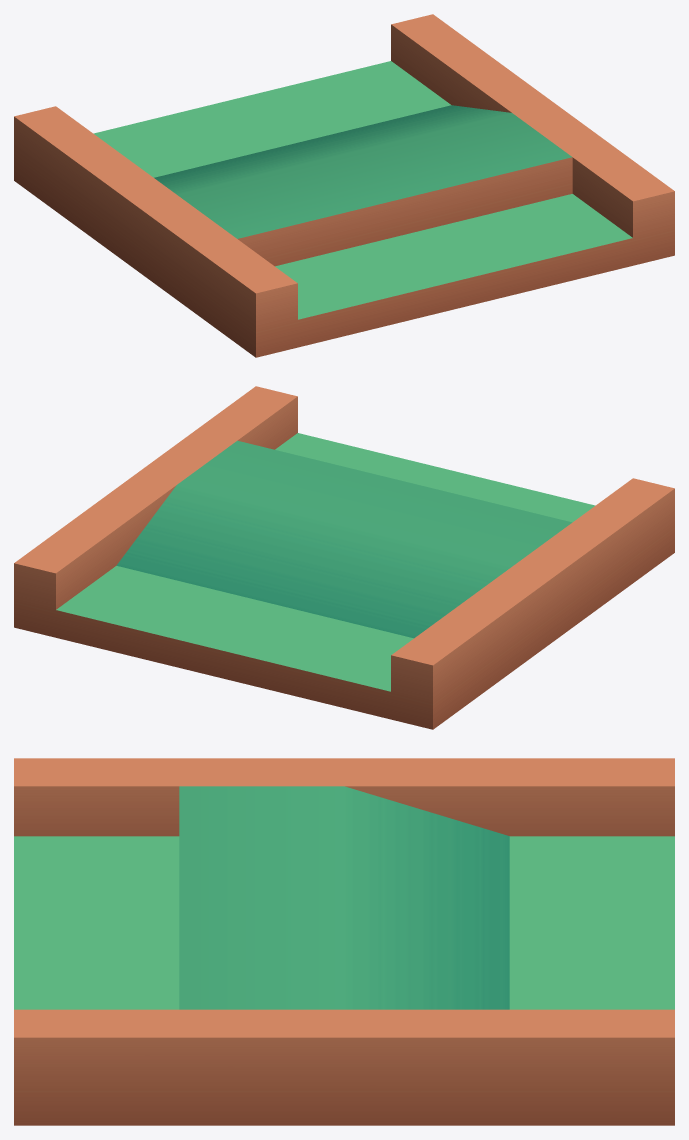
The model's file is ramp-square.glb.
3 renders of one model, top to bottom at view 1: azimuth 30°, elevation 25°; view 2: azimuth 150°, elevation 25°; view 3: azimuth 270°, elevation 25°, orthographic. The views are drawn at different scales.
Parts seen in each view (by area): view 1: ramp-square; view 2: ramp-square; view 3: ramp-square.
Boxes of the visible parts, left/top/right/bottom form: ramp-square: left=14, top=14, right=674, bottom=357; ramp-square: left=14, top=386, right=674, bottom=729; ramp-square: left=14, top=758, right=674, bottom=1125.
Size of the model in its own units: 0.9999 by 0.1467 by 0.9999.
Materials: 1 (1 with a texture image).
